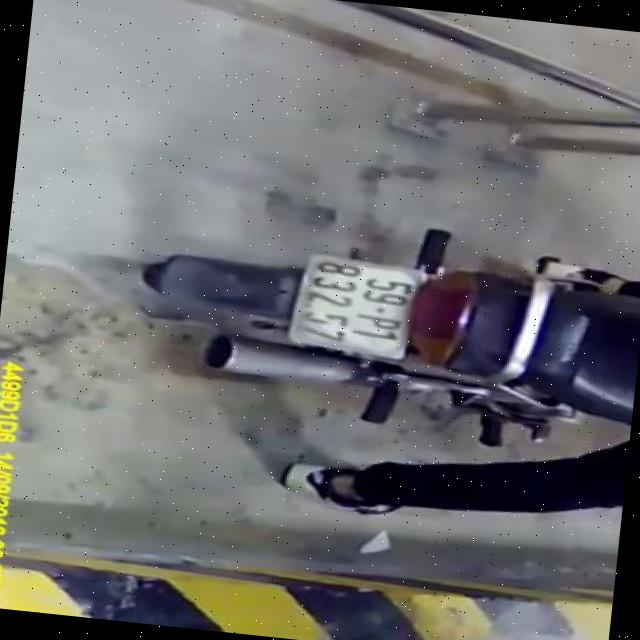license_plate: (275, 254, 424, 362)
